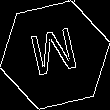M_S: (27, 25, 83, 85)
